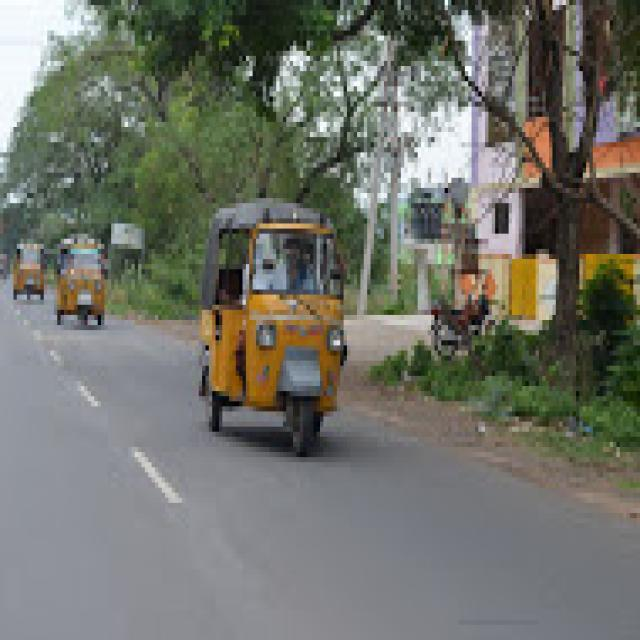auto_front: (198, 194, 346, 452), (49, 236, 109, 342), (10, 231, 50, 311)
